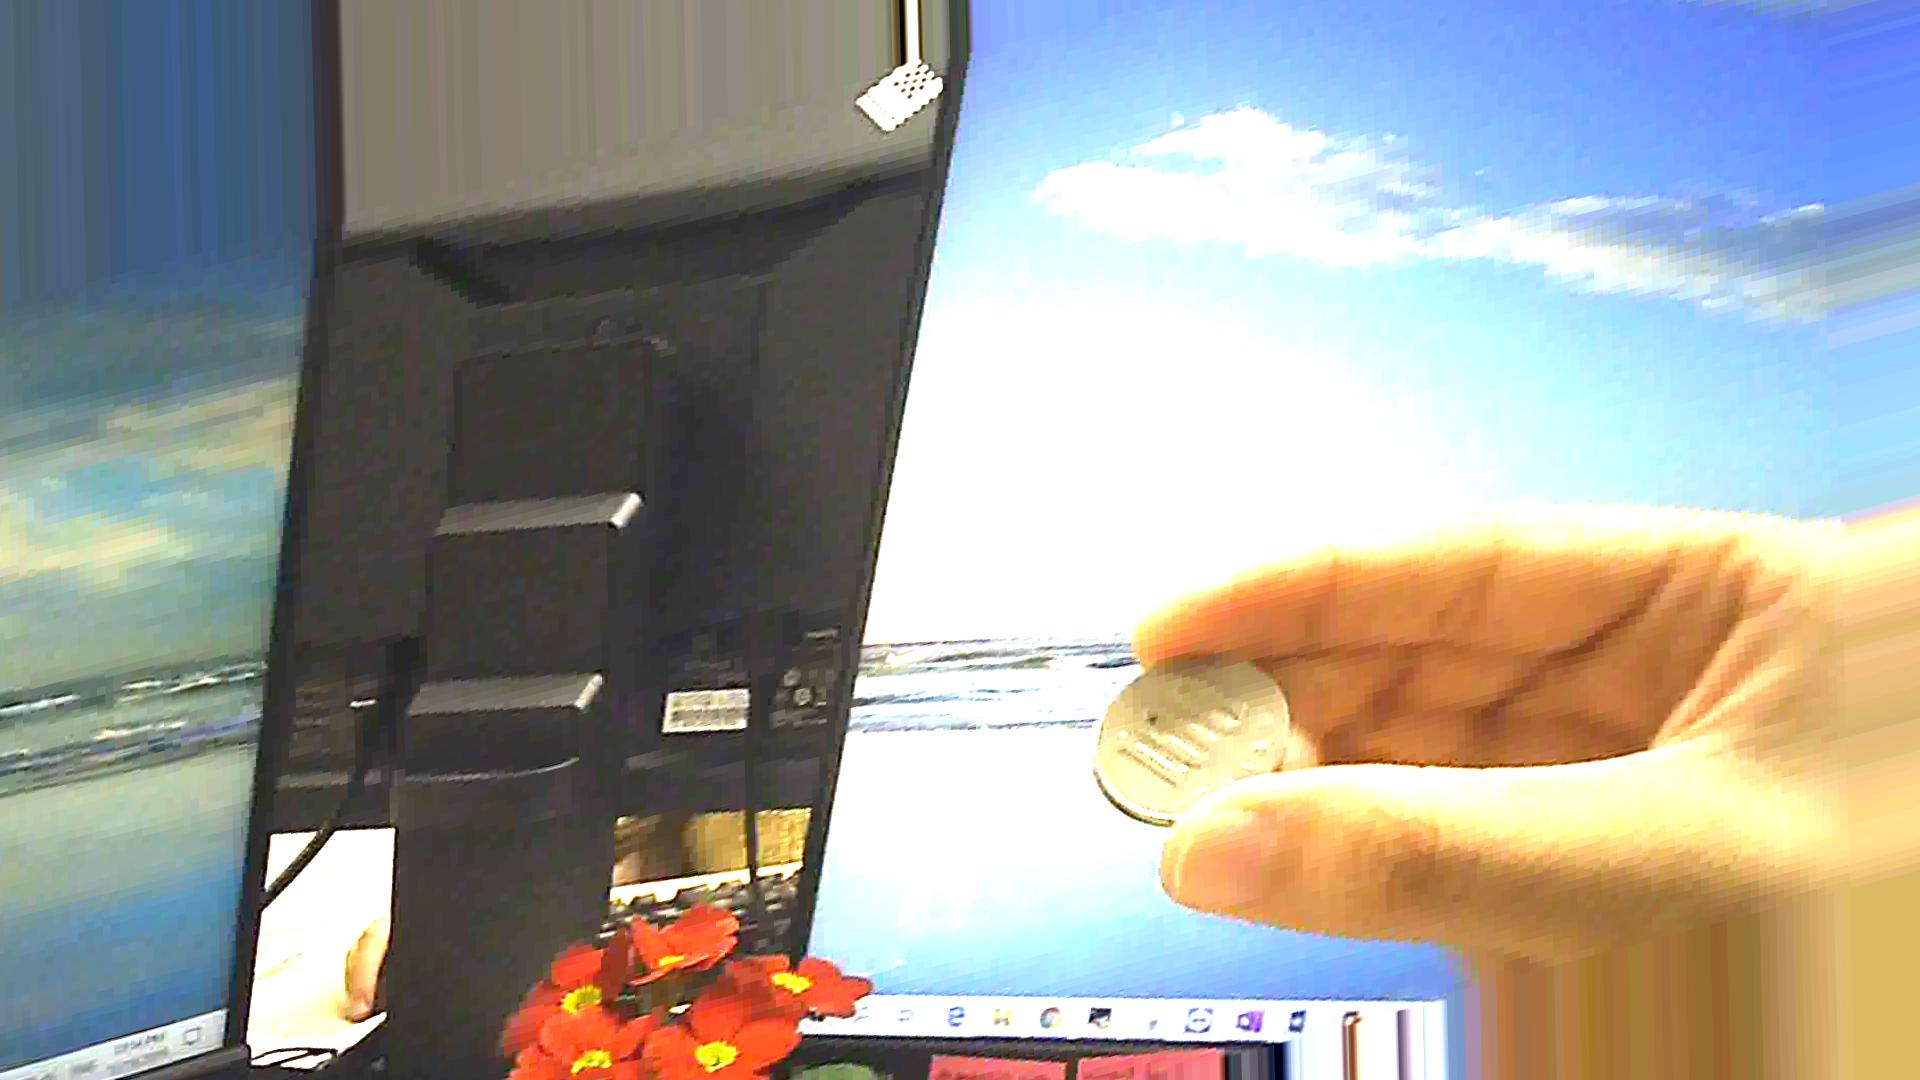100 Yen: (1092, 640, 1309, 831)
